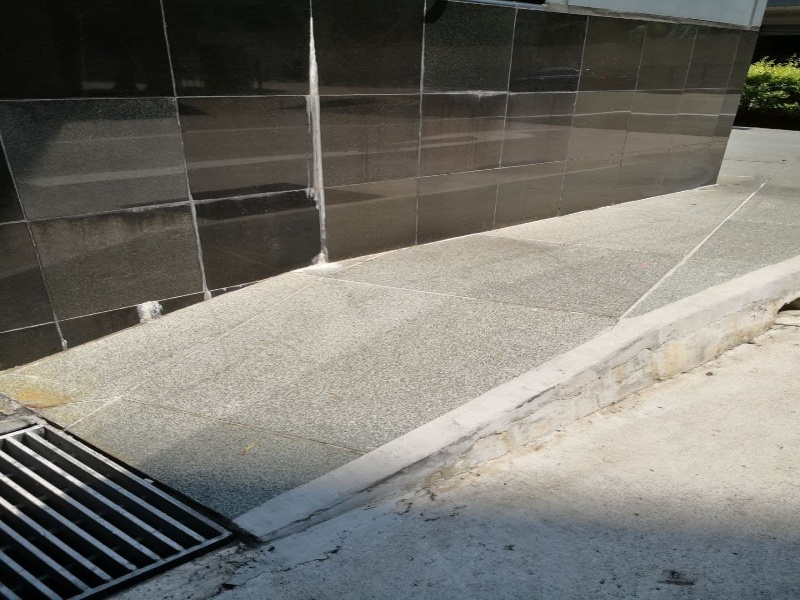slope: (4, 265, 293, 546)
